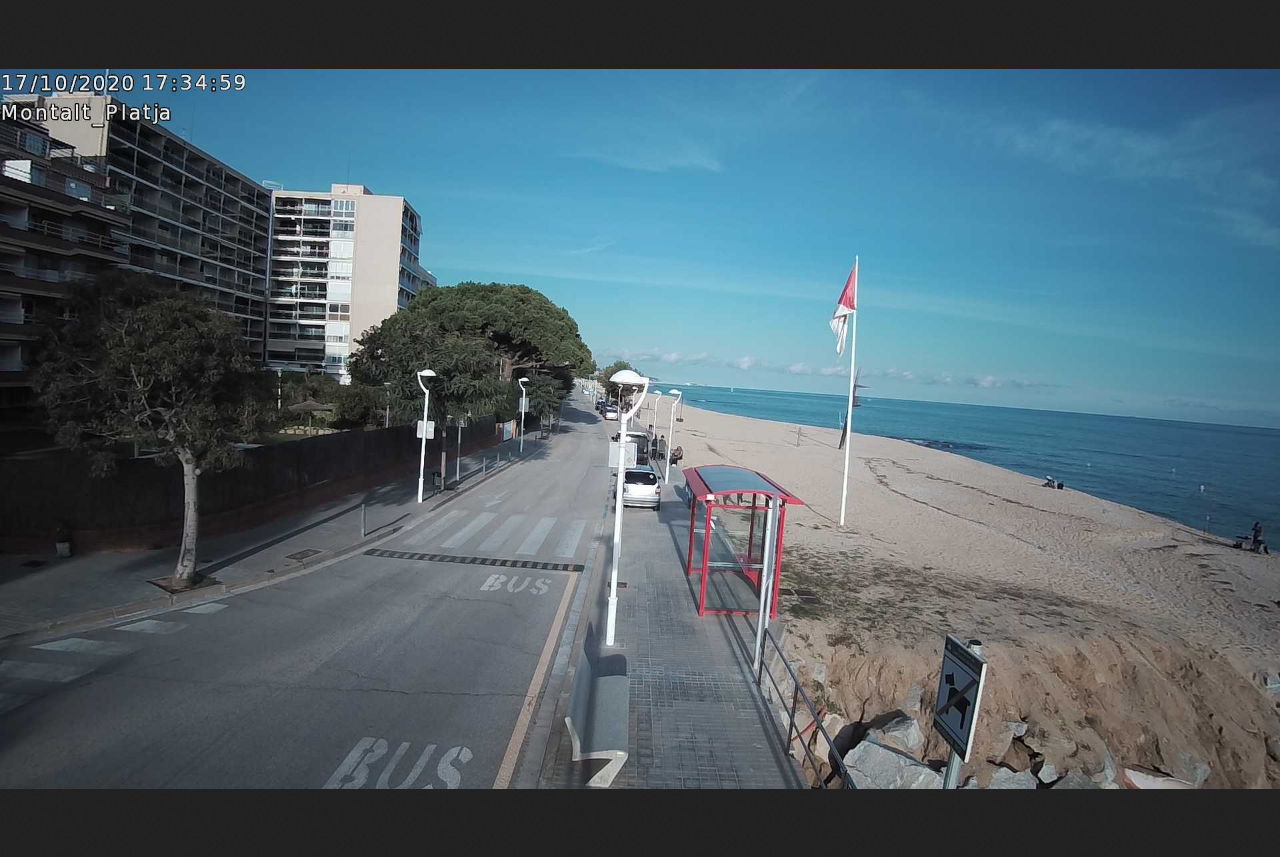no: (824, 247, 871, 357)
